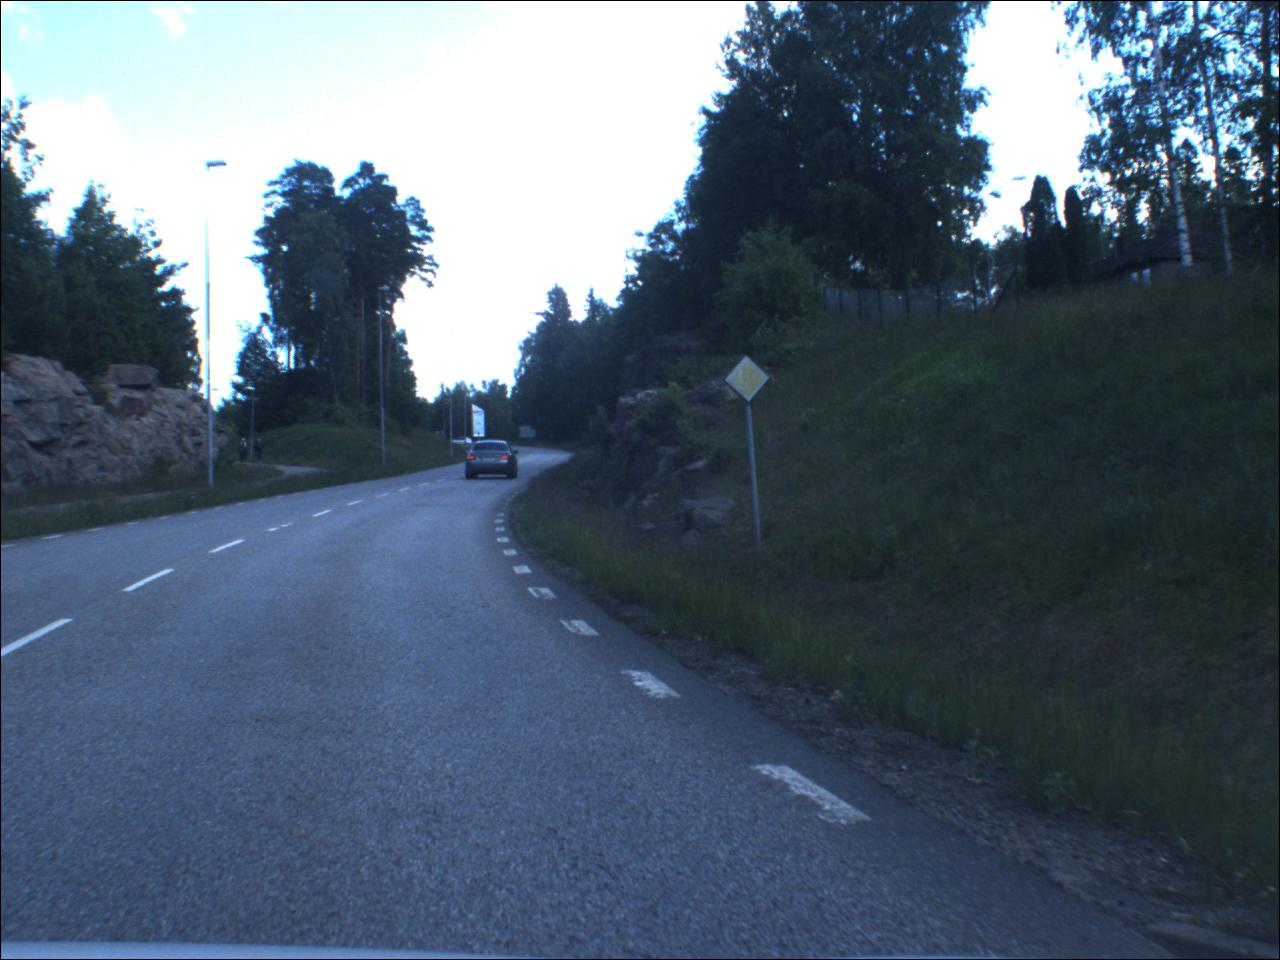PRIORITY_ROAD: (725, 357, 774, 404)
